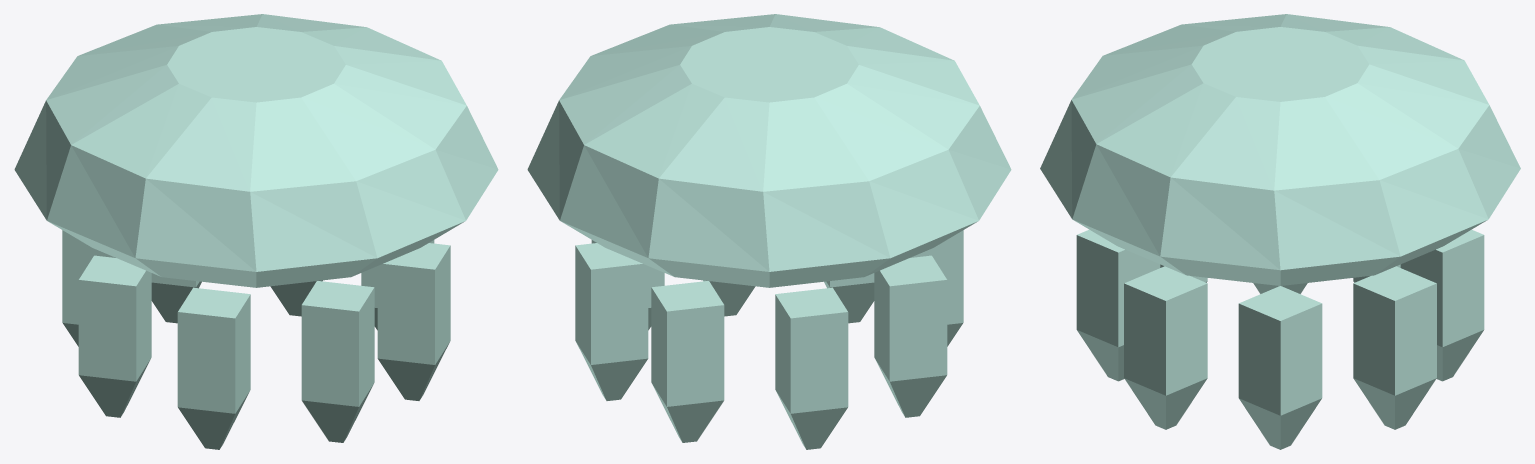
The model's file is opal-chandelier.obj.
The picture shows the model from 3 angles, left to right: view 1: azimuth 30°, elevation 25°; view 2: azimuth 150°, elevation 25°; view 3: azimuth 270°, elevation 25°; orthographic projection.
Bounding box in the file's own units: 0.92 × 0.66 × 0.92.
